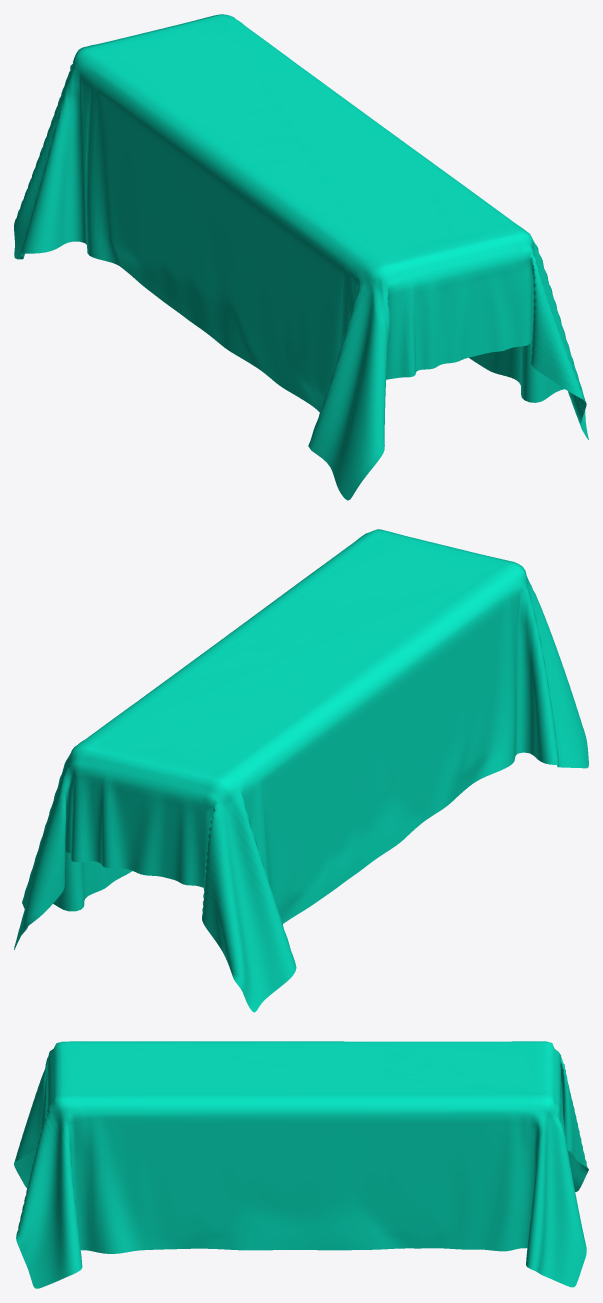
Rendered from cloth.fbx.
3 renders of one model, top to bottom at view 1: azimuth 30°, elevation 25°; view 2: azimuth 150°, elevation 25°; view 3: azimuth 270°, elevation 25°, orthographic. The views are drawn at different scales.
Parts seen in each view (by area): view 1: Plane; view 2: Plane; view 3: Plane.
Part boxes in pixels (bbox=[...]): Plane: bbox=[14, 14, 588, 500]; Plane: bbox=[14, 529, 588, 1012]; Plane: bbox=[14, 1041, 588, 1288].
Bounding box in the file's own units: 338 × 245 × 745.
